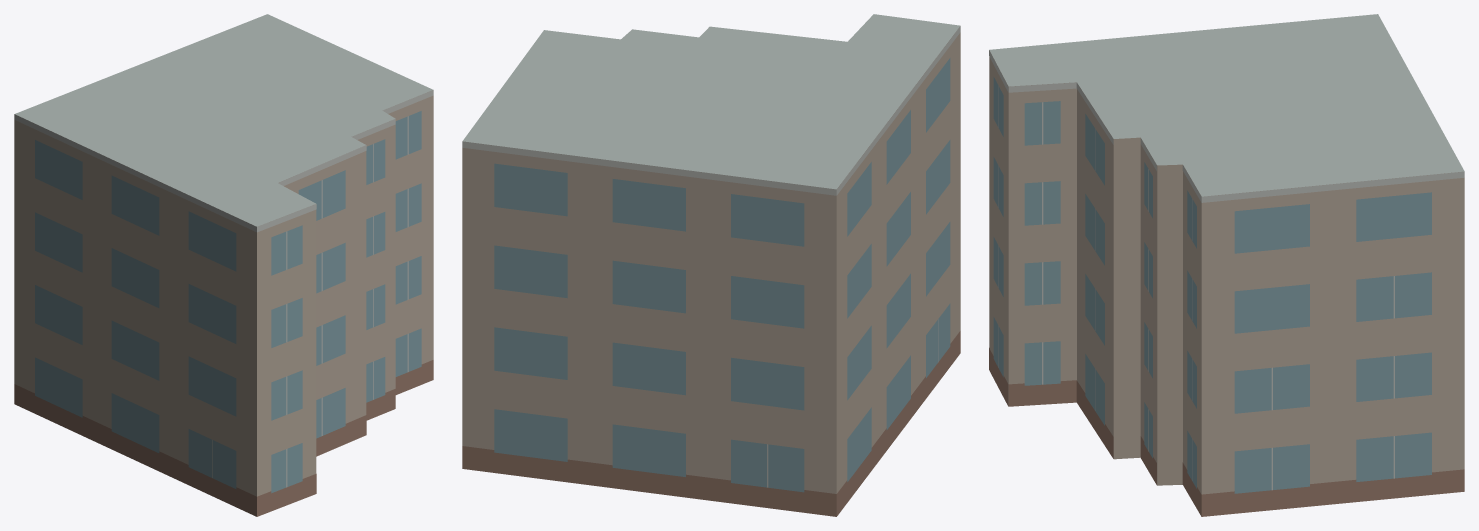
File: survey-upis-32504207.glb
3 views of the same model, side by side, from view 1: azimuth 30°, elevation 25°; view 2: azimuth 150°, elevation 25°; view 3: azimuth 270°, elevation 25° (orthographic). The views are drawn at different scales.
Visible parts, largest first — view 1: survey-upis-32504207.tmp; view 2: survey-upis-32504207.tmp; view 3: survey-upis-32504207.tmp.
Part boxes in pixels (x1,y1,x2,y2): survey-upis-32504207.tmp: (14,14,433,516); survey-upis-32504207.tmp: (462,14,960,516); survey-upis-32504207.tmp: (989,14,1464,516).
Bounding box in the file's own units: 15.31 × 12.5 × 16.84.
